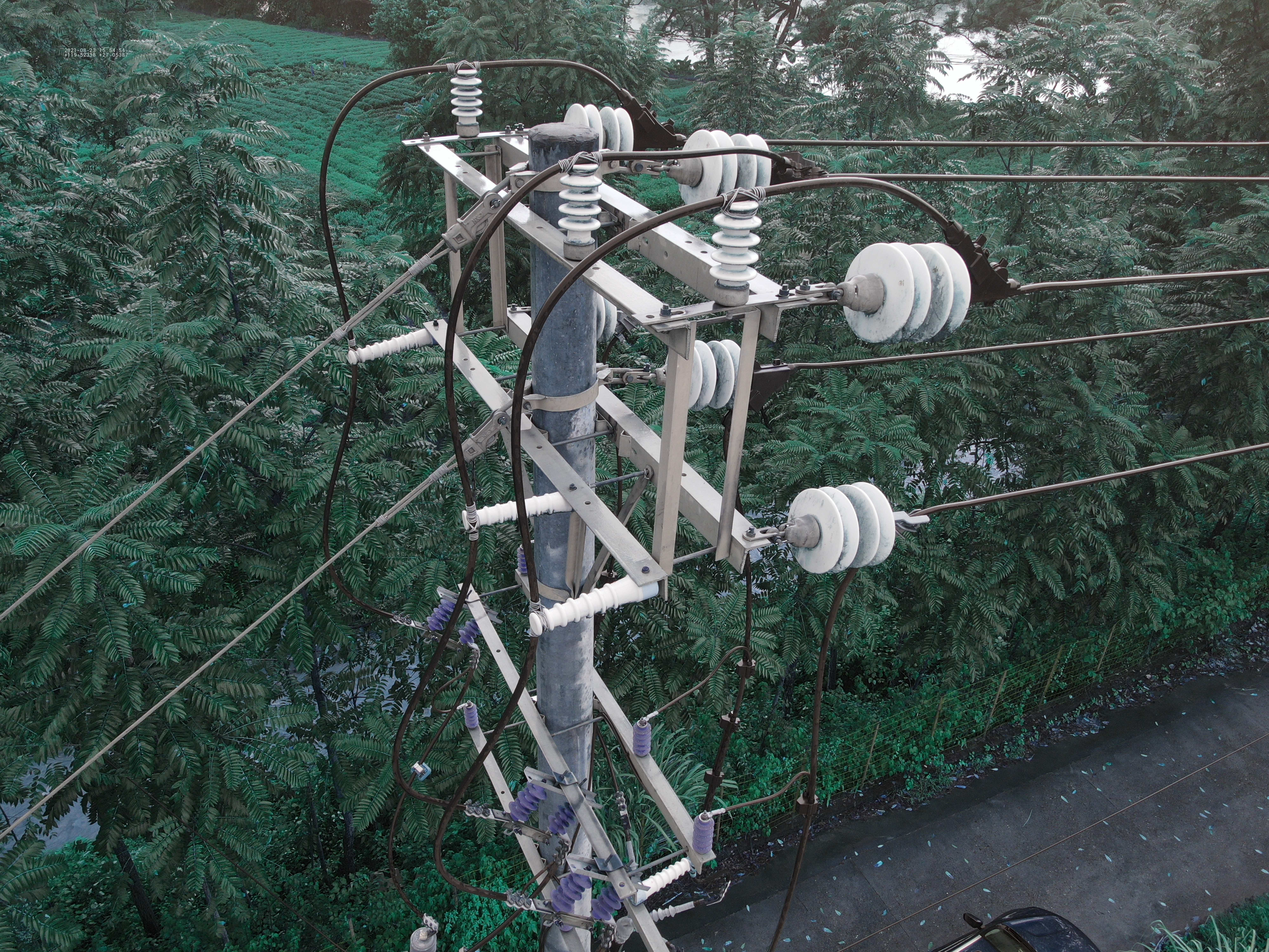severe_soiling_no_discharge_whole: (832, 238, 973, 347), (779, 481, 898, 576), (530, 565, 662, 640), (664, 130, 775, 210), (705, 194, 766, 308), (555, 157, 607, 261), (459, 491, 576, 532), (687, 337, 741, 413), (343, 331, 440, 367), (564, 102, 632, 152), (446, 68, 484, 137)
